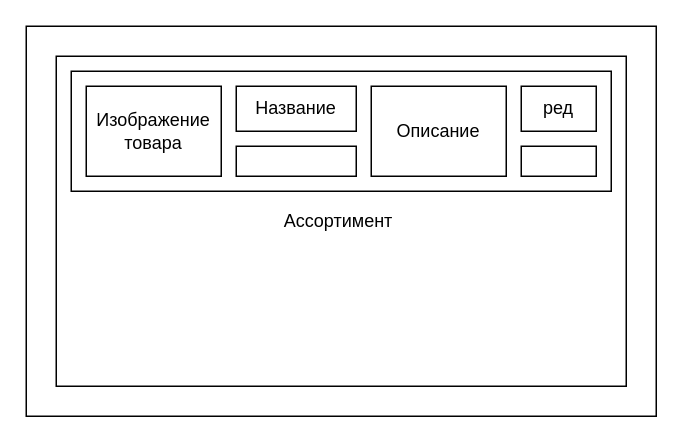
Image size: 683x443. Some labels were removed from this diagram. Here are the shapes that lost their labels. From the top down, the centre of each, then its label:
(x=295, y=160): Цена
(x=558, y=160): Удалить
